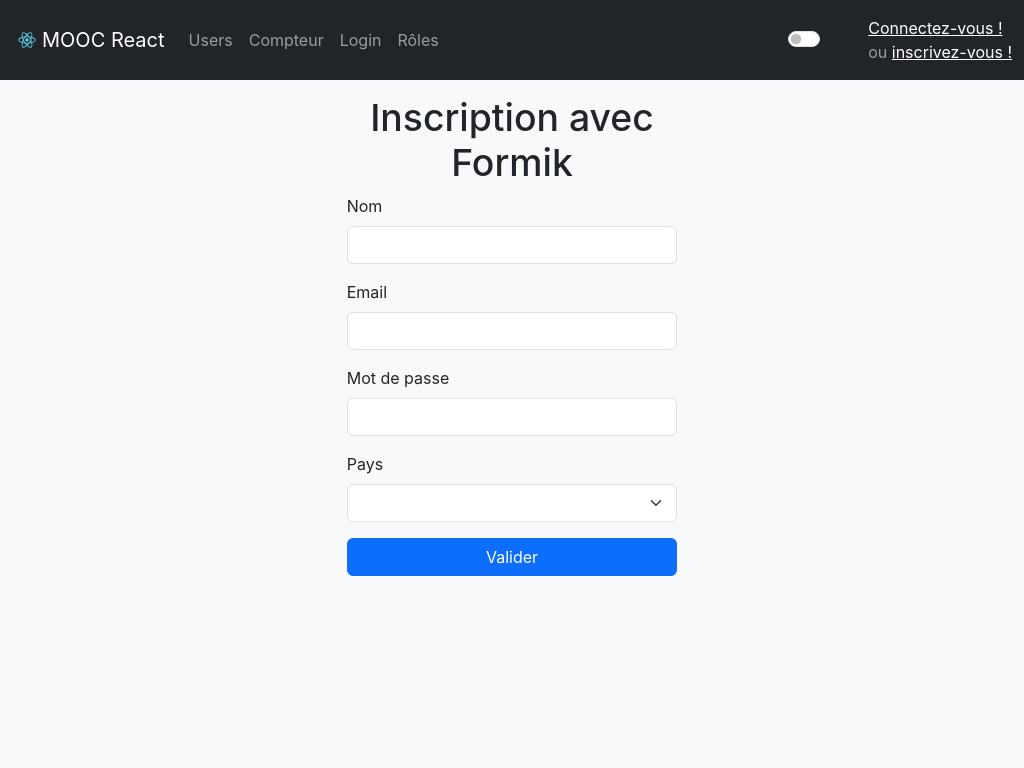
Scenario: Inscription › devrait afficher une erreur si l'email n'est pas valide
This screenshot has width=1024, height=768.
Type "q" into the field with id "email" at (513, 331), box [347,312,678,350]
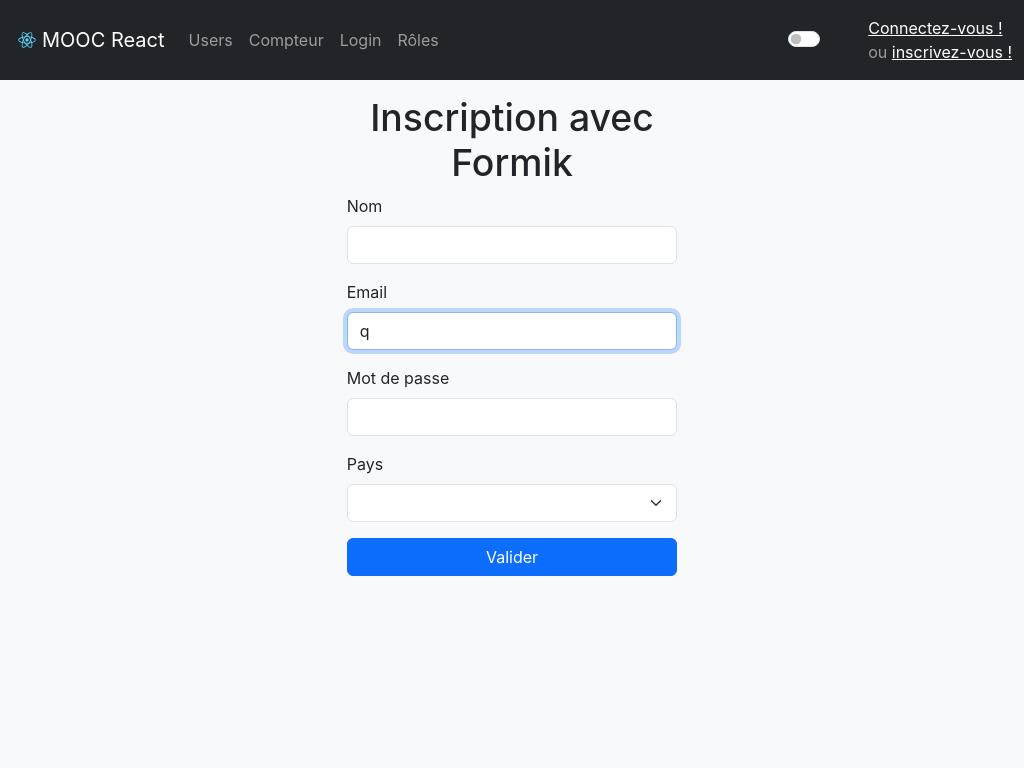
Click the submit button at (513, 557), box [347,538,678,576]
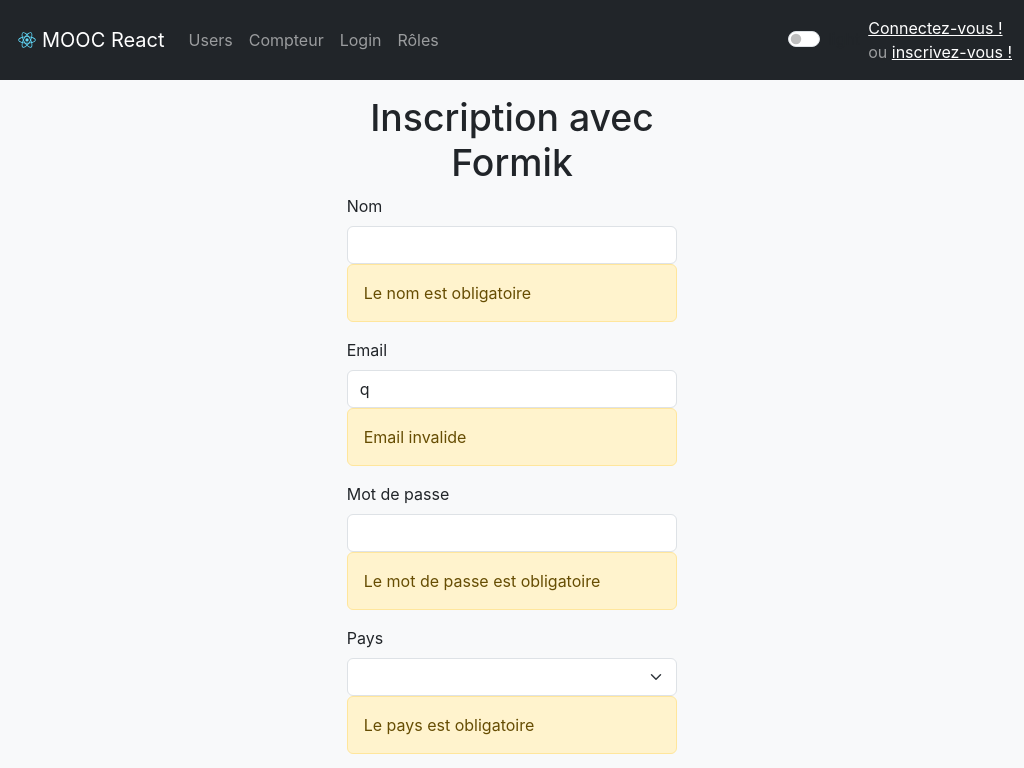
Check: the text with class "email" reads "Email invalide", box [347,408,678,466]
